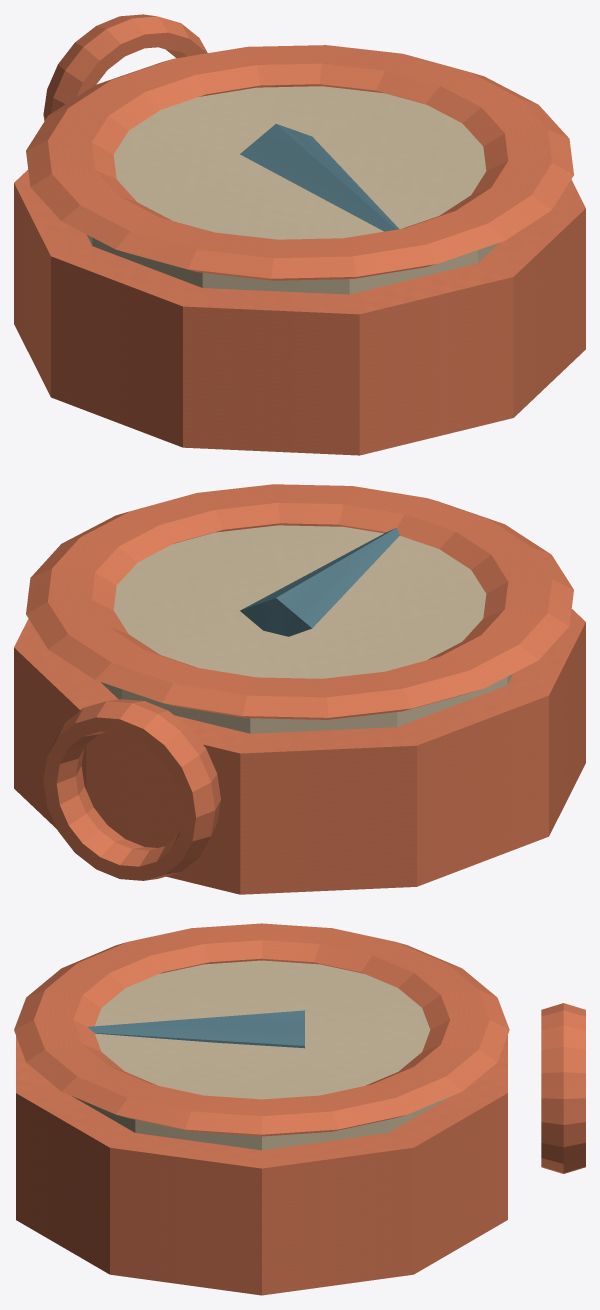
File: atlas100-s043-a05.glb
The picture shows the model from 3 angles, top to bottom: view 1: azimuth 30°, elevation 25°; view 2: azimuth 150°, elevation 25°; view 3: azimuth 270°, elevation 25°; orthographic projection. The views are drawn at different scales.
Parts seen in each view (by area): view 1: atlas100-s043-a05:part-000, atlas100-s043-a05:part-003, atlas100-s043-a05:part-001, atlas100-s043-a05:part-004, atlas100-s043-a05:part-002; view 2: atlas100-s043-a05:part-000, atlas100-s043-a05:part-003, atlas100-s043-a05:part-001, atlas100-s043-a05:part-004, atlas100-s043-a05:part-002; view 3: atlas100-s043-a05:part-000, atlas100-s043-a05:part-003, atlas100-s043-a05:part-001, atlas100-s043-a05:part-004, atlas100-s043-a05:part-002.
Boxes of the visible parts, x1=… form: atlas100-s043-a05:part-000: x1=14, y1=169, x2=585, y2=455; atlas100-s043-a05:part-003: x1=26, y1=45, x2=573, y2=280; atlas100-s043-a05:part-001: x1=86, y1=86, x2=499, y2=294; atlas100-s043-a05:part-004: x1=43, y1=14, x2=207, y2=120; atlas100-s043-a05:part-002: x1=240, y1=124, x2=398, y2=231; atlas100-s043-a05:part-000: x1=14, y1=609, x2=585, y2=894; atlas100-s043-a05:part-003: x1=26, y1=484, x2=573, y2=719; atlas100-s043-a05:part-001: x1=101, y1=525, x2=512, y2=733; atlas100-s043-a05:part-004: x1=43, y1=699, x2=220, y2=880; atlas100-s043-a05:part-002: x1=240, y1=528, x2=399, y2=636; atlas100-s043-a05:part-000: x1=16, y1=1035, x2=507, y2=1295; atlas100-s043-a05:part-003: x1=14, y1=923, x2=509, y2=1136; atlas100-s043-a05:part-001: x1=72, y1=960, x2=451, y2=1150; atlas100-s043-a05:part-004: x1=541, y1=1003, x2=585, y2=1173; atlas100-s043-a05:part-002: x1=88, y1=1010, x2=304, y2=1048.
Size of the model in its own units: 0.5242 by 0.1966 by 0.5796.
3 materials, 3 textured.
